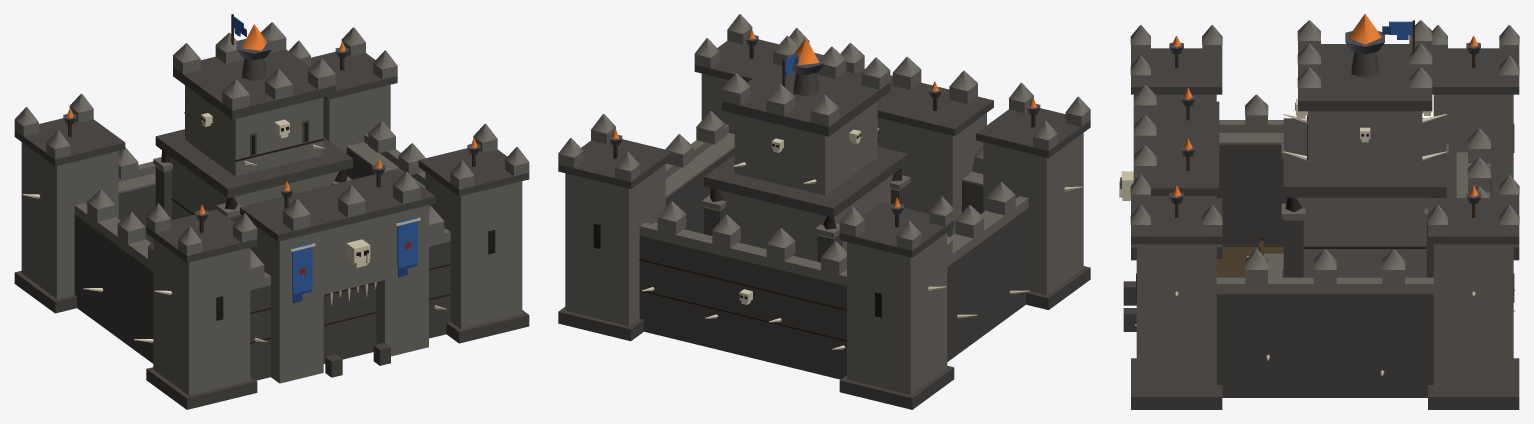
The model's file is orc-fortress.glb.
The picture shows the model from 3 angles, left to right: view 1: azimuth 30°, elevation 25°; view 2: azimuth 150°, elevation 25°; view 3: azimuth 270°, elevation 25°; orthographic projection. The views are drawn at different scales.
Parts seen in each view (by area): view 1: orc-fortress; view 2: orc-fortress; view 3: orc-fortress.
Part boxes in pixels (x1=…): orc-fortress: x1=14, y1=14, x2=529, y2=409; orc-fortress: x1=558, y1=14, x2=1090, y2=409; orc-fortress: x1=1119, y1=14, x2=1519, y2=409.
Size of the model in its own units: 16.72 by 11.65 by 14.01.
1 material, 1 textured.
